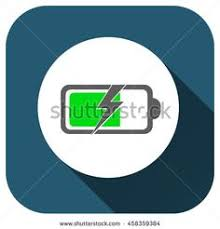charging sign: (53, 79, 167, 143)
